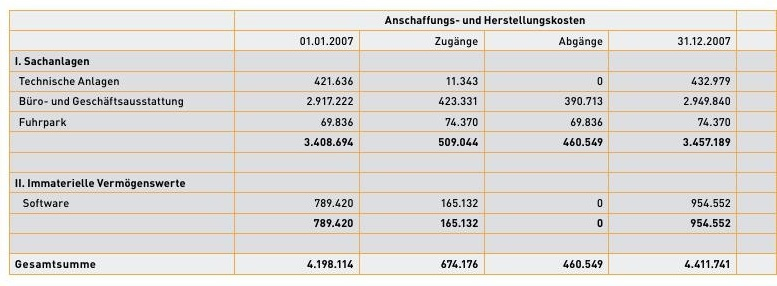table: (0, 0, 777, 286)
